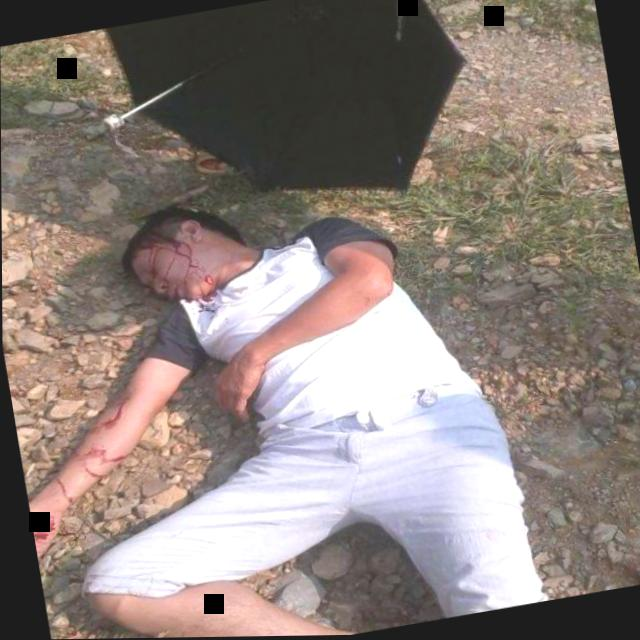Fall-Detected: (1, 137, 619, 640)
